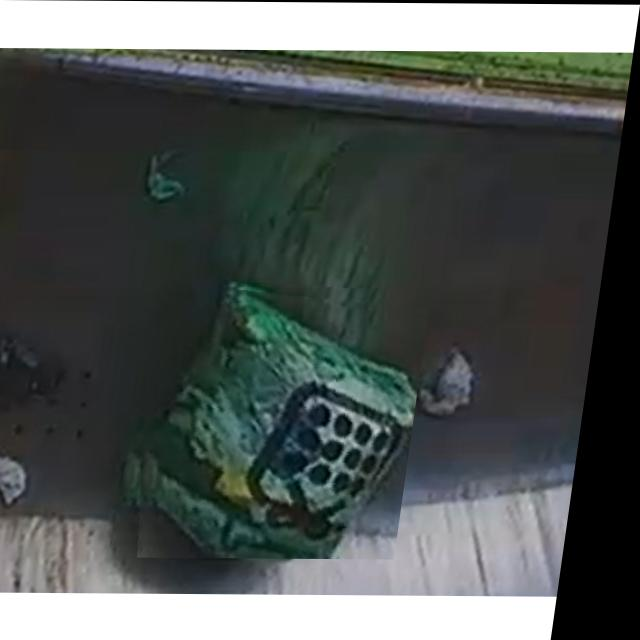general_trashbag: (152, 287, 429, 557)
